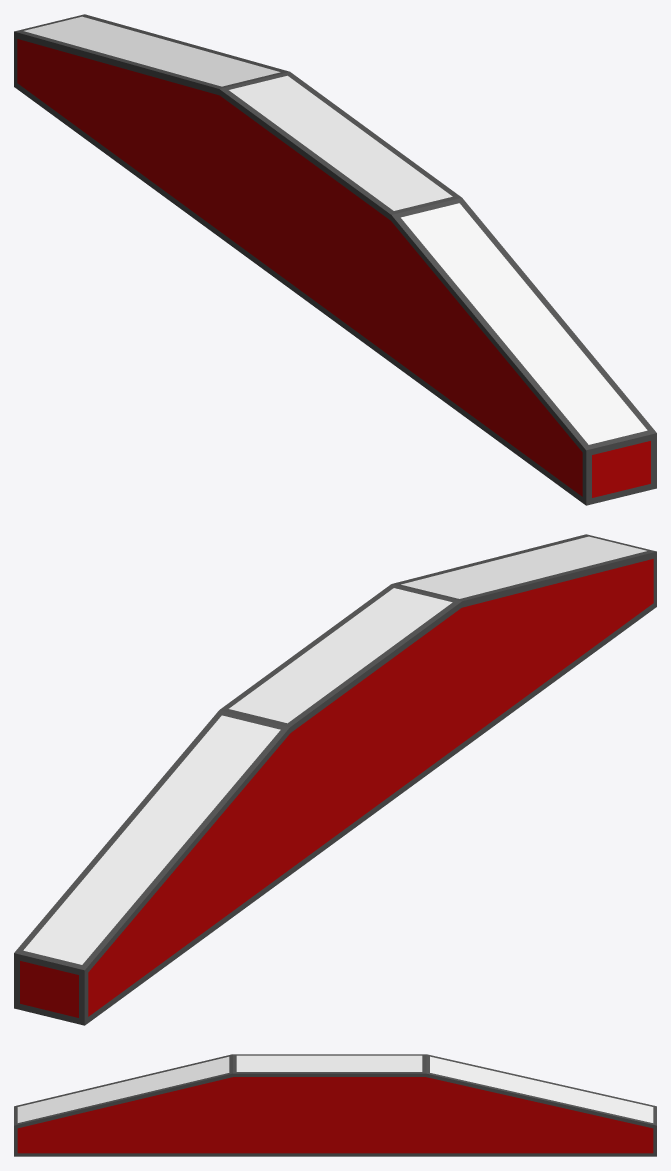
The model's file is Bar2.fbx.
3 views of the same model, one above another, from view 1: azimuth 30°, elevation 25°; view 2: azimuth 150°, elevation 25°; view 3: azimuth 270°, elevation 25° (orthographic). The views are drawn at different scales.
Parts seen in each view (by area): view 1: Model; view 2: Model; view 3: Model.
Part boxes in pixels (x1,y1,x2,y2): Model: (14, 14, 656, 505); Model: (14, 534, 656, 1025); Model: (14, 1054, 656, 1156).
Bounding box in the file's own units: 24 × 48 × 336.
